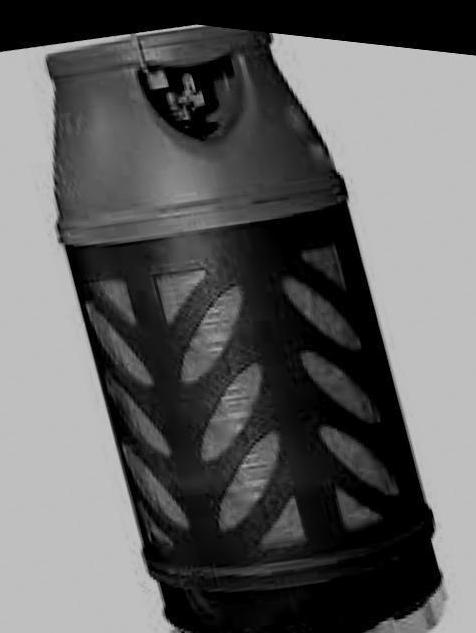cylinder: (1, 1, 476, 633)
